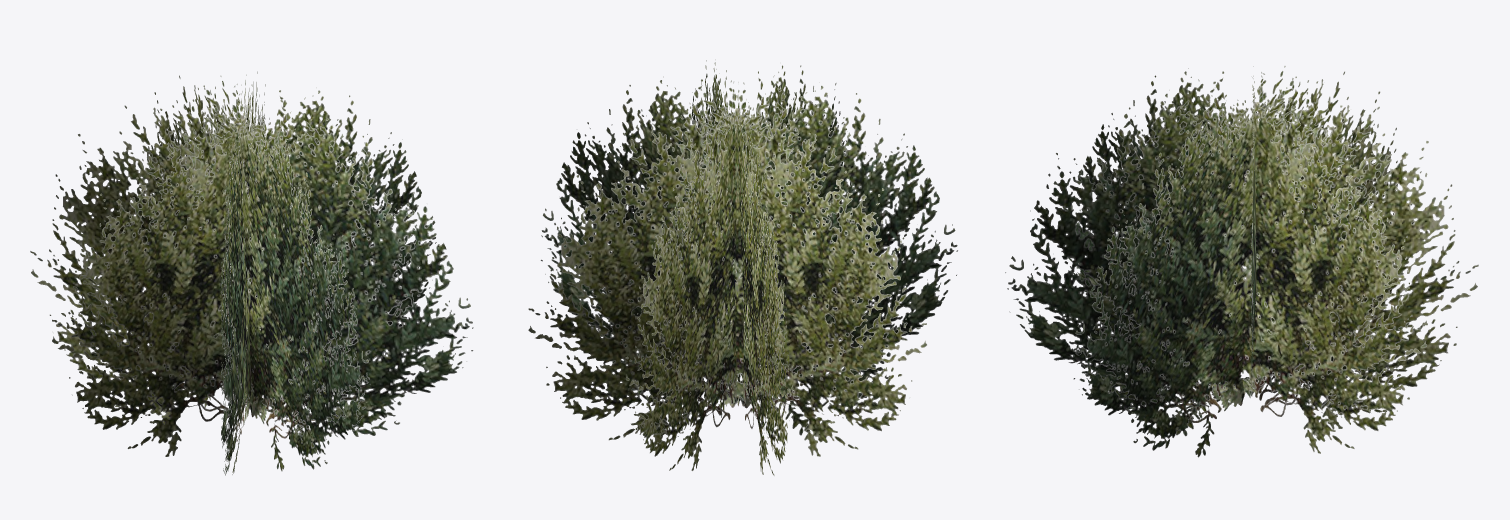
Rendered from SM_Generic_Plant_09.fbx.
3 views of the same model, side by side, from view 1: azimuth 30°, elevation 25°; view 2: azimuth 150°, elevation 25°; view 3: azimuth 270°, elevation 25° (orthographic). The views are drawn at different scales.
Visible parts, largest first — view 1: SM_Generic_Plant_09_LOD0; view 2: SM_Generic_Plant_09_LOD0; view 3: SM_Generic_Plant_09_LOD0.
Boxes of the visible parts, <box> form: SM_Generic_Plant_09_LOD0: <box>30,71,473,475</box>; SM_Generic_Plant_09_LOD0: <box>528,59,957,475</box>; SM_Generic_Plant_09_LOD0: <box>1005,66,1478,457</box>.
Size of what is drawn, in the model's own units: 0.6712 by 0.5894 by 0.7134.
